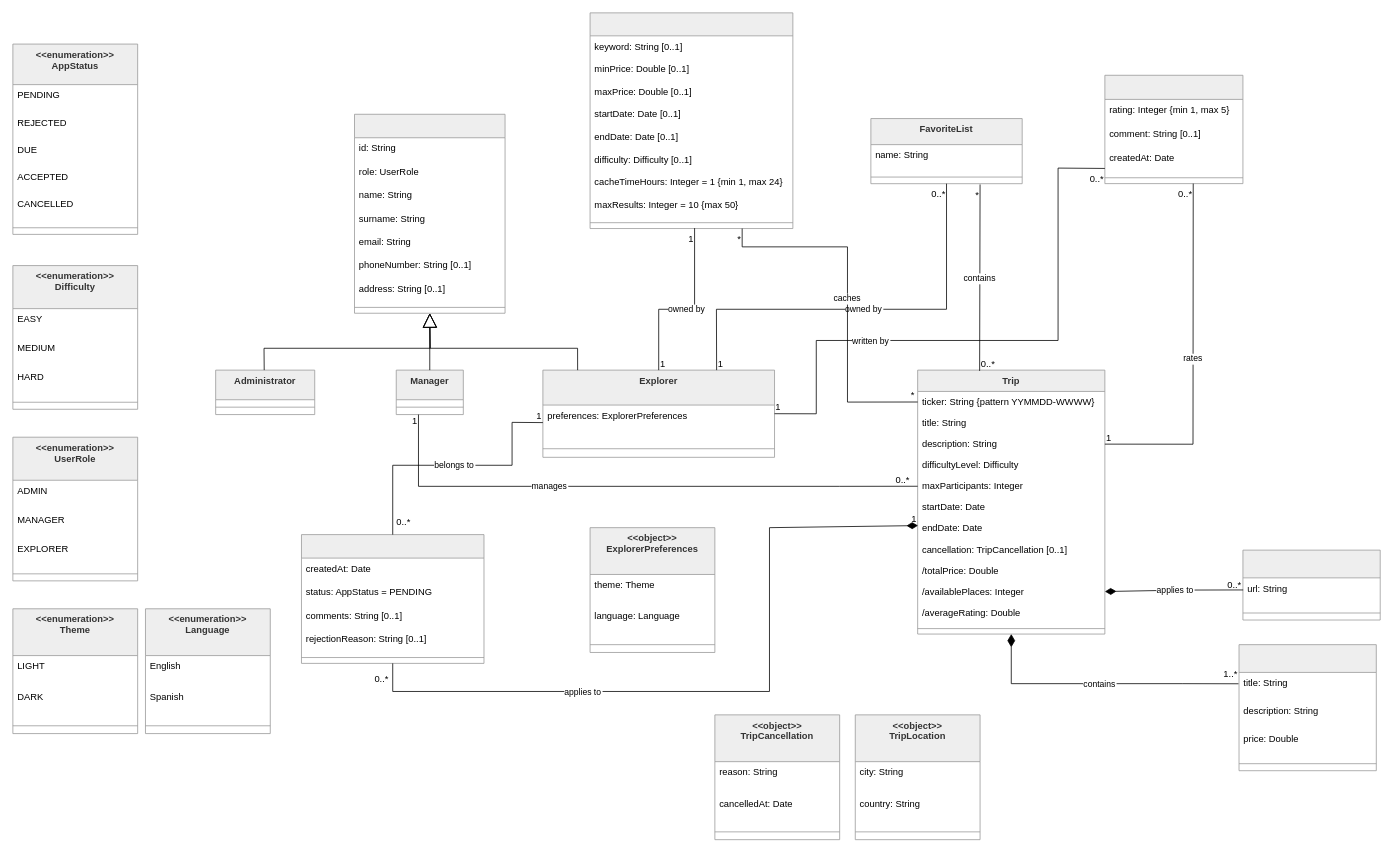
This 1393x853 diagram has some shape labels left out. Each missing label, with the box of its shape:
Actor: (354, 113, 505, 313)
Application: (301, 534, 484, 663)
Finder: (589, 12, 793, 229)
Picture: (1242, 549, 1380, 620)
Review: (1104, 74, 1243, 184)
Stage: (1238, 644, 1376, 771)
